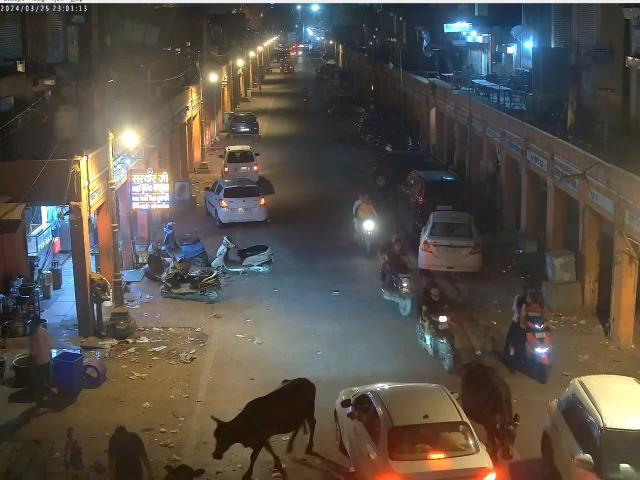car: (332, 381, 496, 480), (540, 373, 640, 480), (418, 209, 486, 274), (398, 167, 469, 224), (203, 178, 268, 226), (219, 144, 259, 183)
cattle: (210, 375, 321, 480), (458, 360, 521, 468)
license_plate: (441, 248, 461, 255), (436, 206, 452, 210), (237, 208, 252, 212)
motorbike-rider: (379, 234, 412, 316), (354, 192, 377, 250)
no_helmet: (524, 294, 538, 304), (392, 240, 401, 254), (430, 288, 440, 298), (362, 194, 368, 205)
scooty: (160, 260, 221, 302), (213, 236, 274, 276), (161, 218, 208, 265), (144, 238, 192, 279)
scooty-rider: (501, 284, 554, 380), (417, 286, 457, 372)
